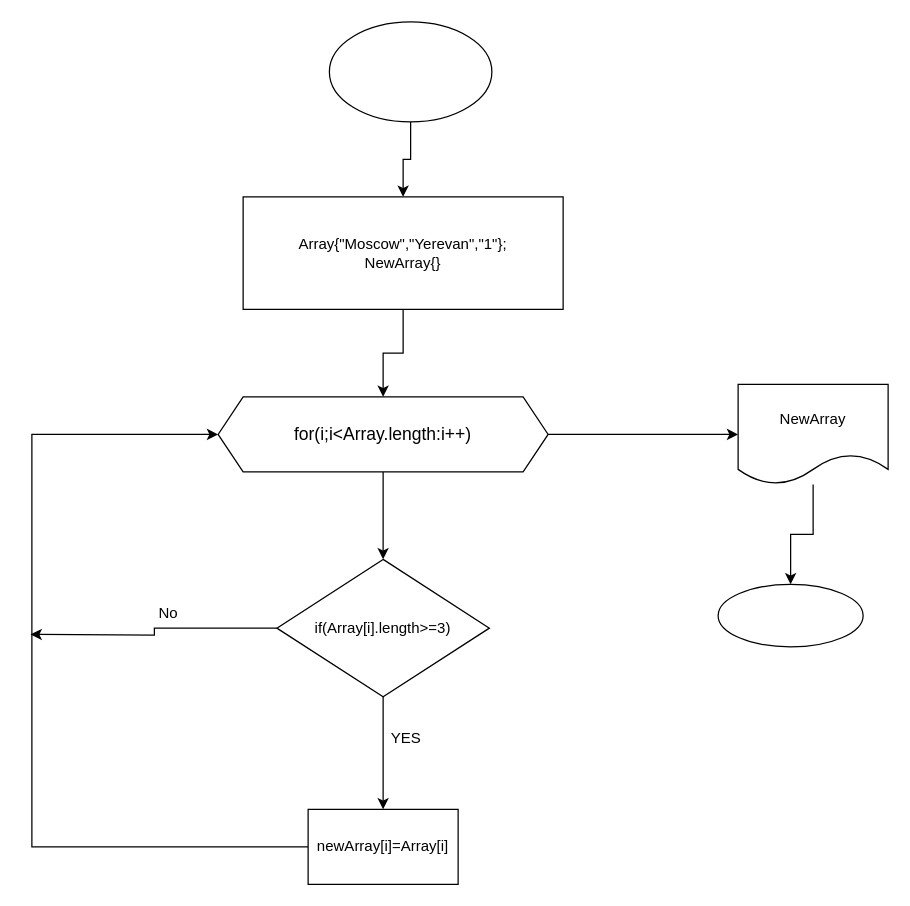
Image size: 910x906. Some labels were removed from this diagram. The centre of each missing label's shape, as x and y in pixels:
Start: the point at 410,71
Stop: the point at 790,615
